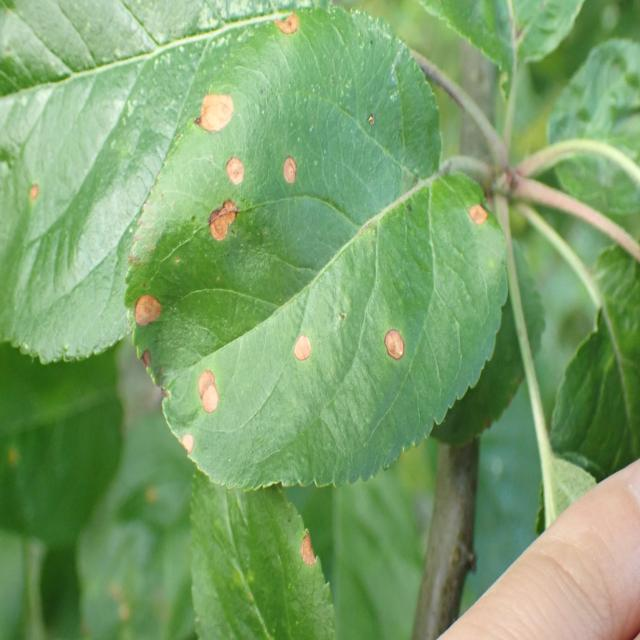Black Rot: (100, 272, 168, 333), (193, 349, 232, 444), (286, 516, 331, 592), (195, 198, 245, 265), (185, 85, 237, 146), (165, 399, 206, 473), (262, 4, 315, 59), (377, 291, 409, 374), (461, 180, 500, 247), (216, 136, 252, 204), (279, 127, 306, 203), (289, 310, 317, 375), (11, 178, 59, 213)
